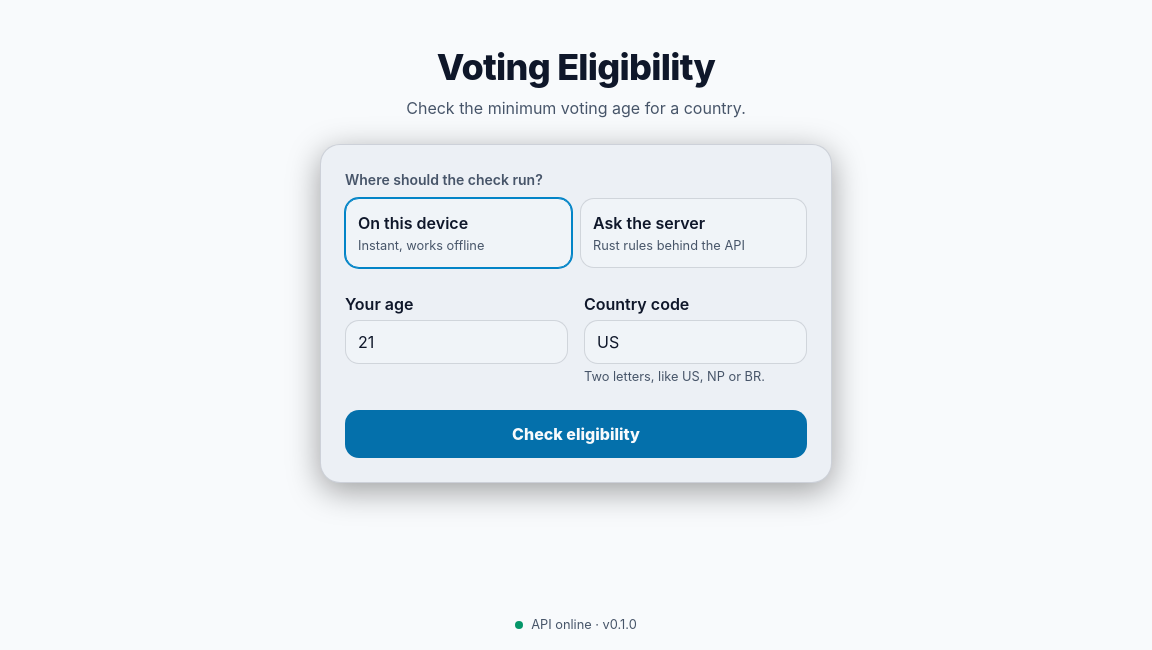
Test: App: ask the server › sends the country as the debug header and shows the server verdict
Expected: the text "API online · v0.1.0" is shown, [515,616,637,634]
Click the radio button labelled "Ask the server Rust rules behind the API": coordinates (694, 233) [580,198,807,268]
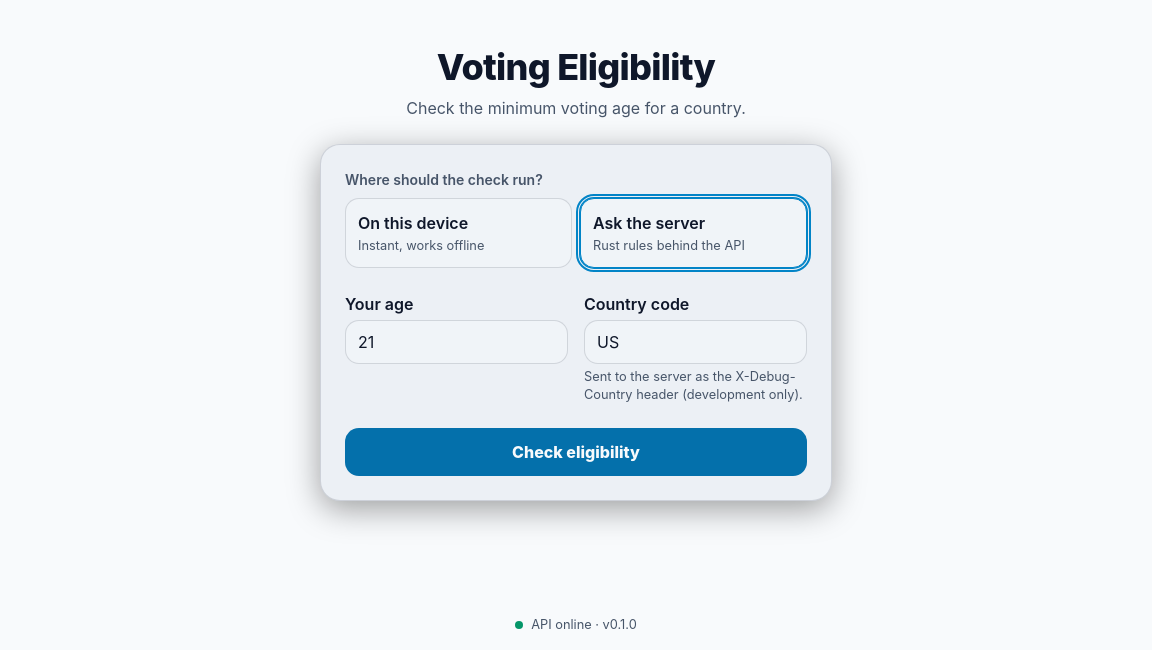
Expected: the text "X-Debug-Country header" is shown, [584,369,803,402]
Replace the text in the field labelled "Your age" with "16": coordinates (456, 342) [345,320,568,364]
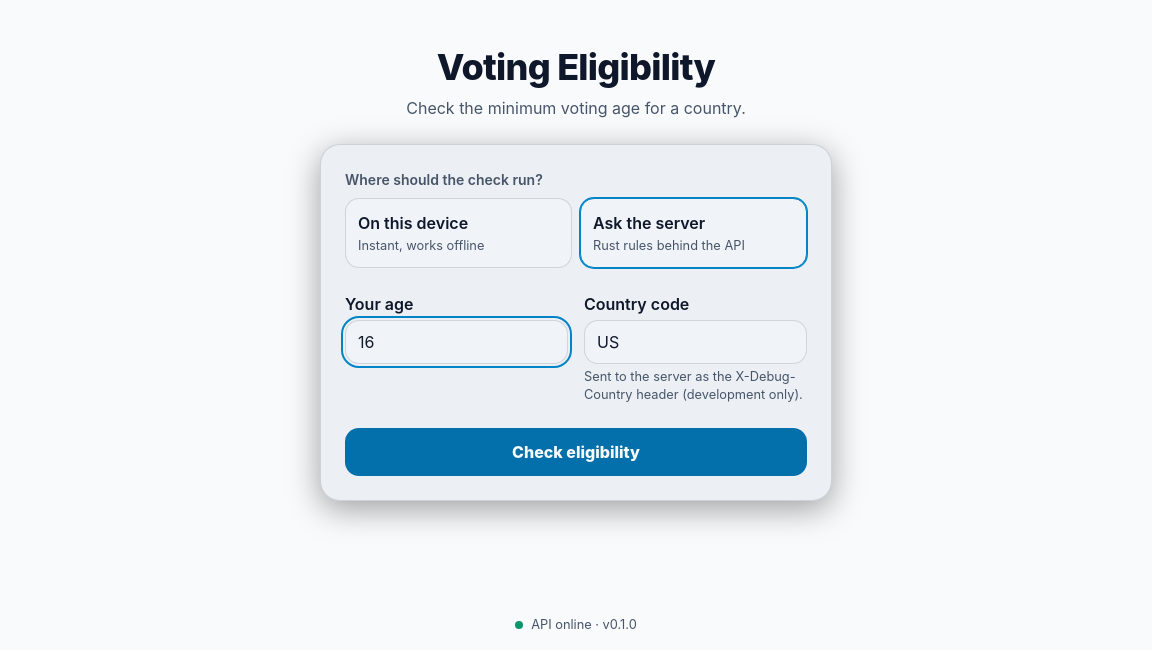
Replace the text in the field labelled "Country code" with "BR": coordinates (696, 342) [584,320,807,364]
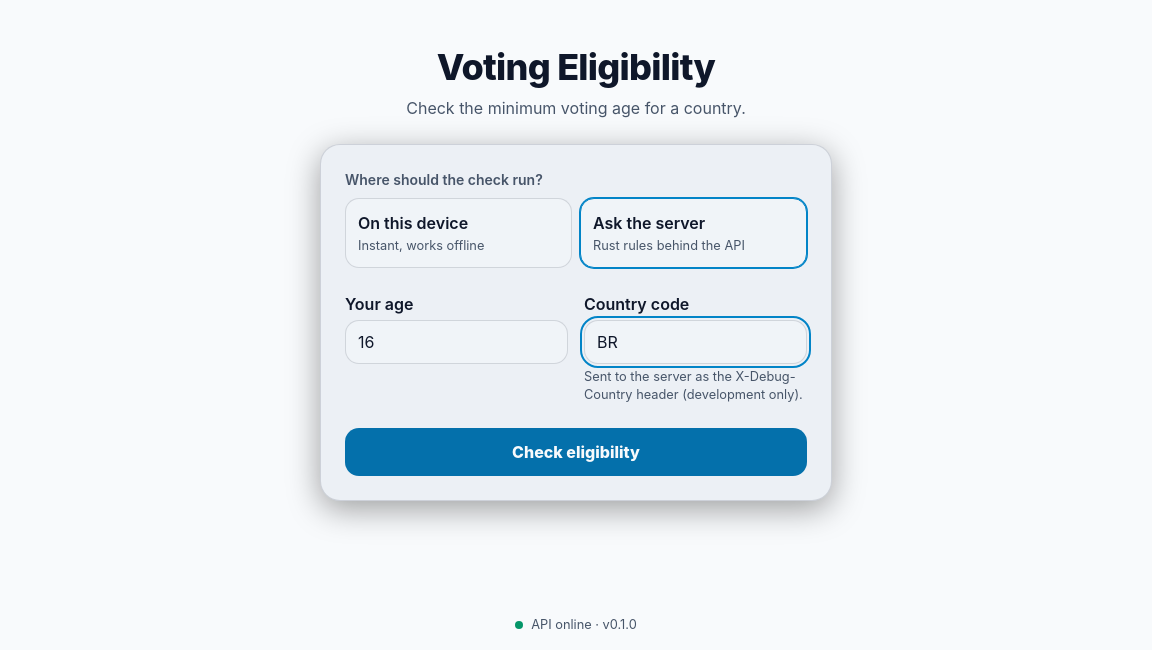
Click the button "Check eligibility": coordinates (576, 452) [345,428,807,476]
(page scrolled)
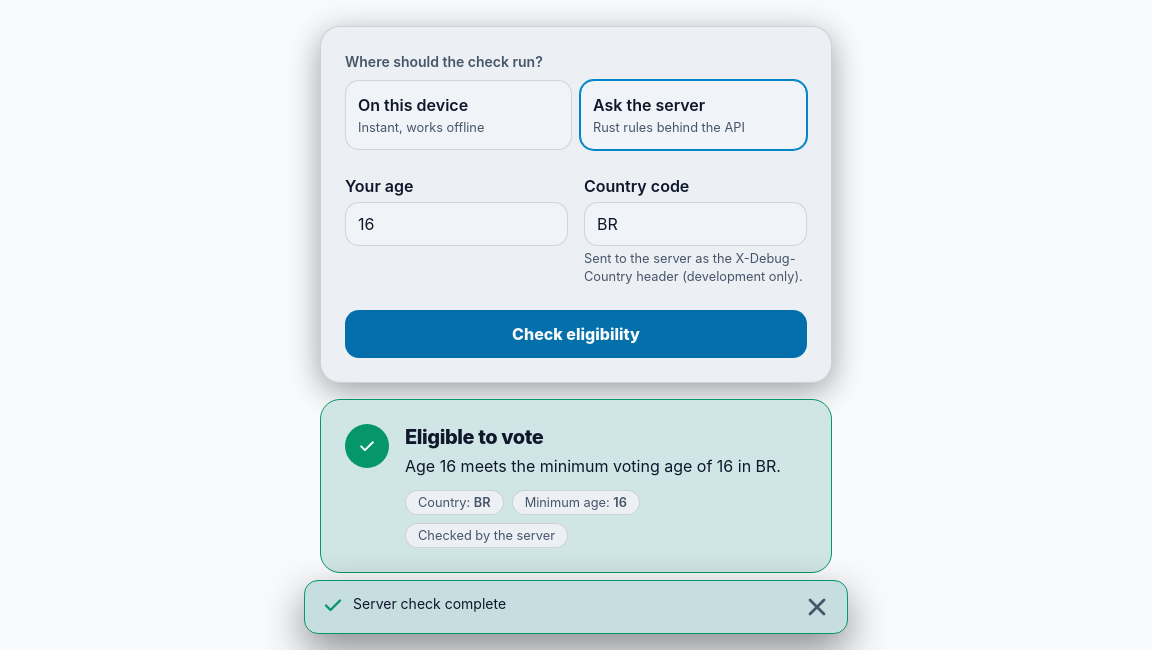
Expected: the heading "Eligible to vote" is shown, [405,425,543,449]
Expected: the text "Checked by the server" is shown, [418,528,555,543]
